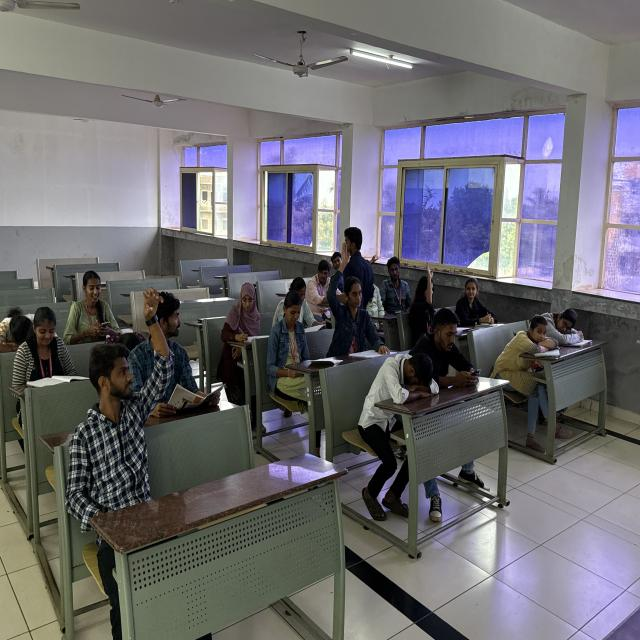Hand Rising: (94, 277, 180, 513), (326, 237, 372, 353), (410, 256, 442, 333)
Reading: (9, 303, 90, 391)
Sleeping: (360, 344, 440, 438), (496, 310, 560, 380), (531, 300, 590, 354)
Using Phone: (416, 308, 498, 392), (64, 263, 125, 343), (268, 290, 313, 369)
Writing: (220, 280, 273, 359)
